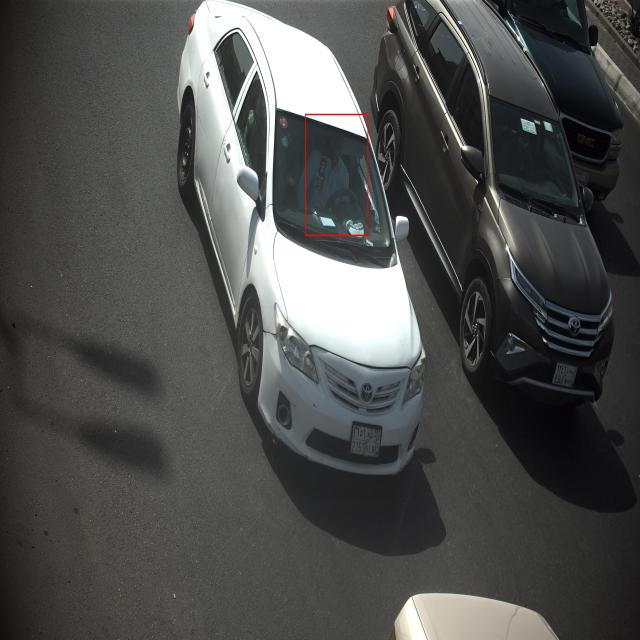windshield: (271, 105, 395, 283), (486, 92, 584, 222), (522, 0, 599, 51)
